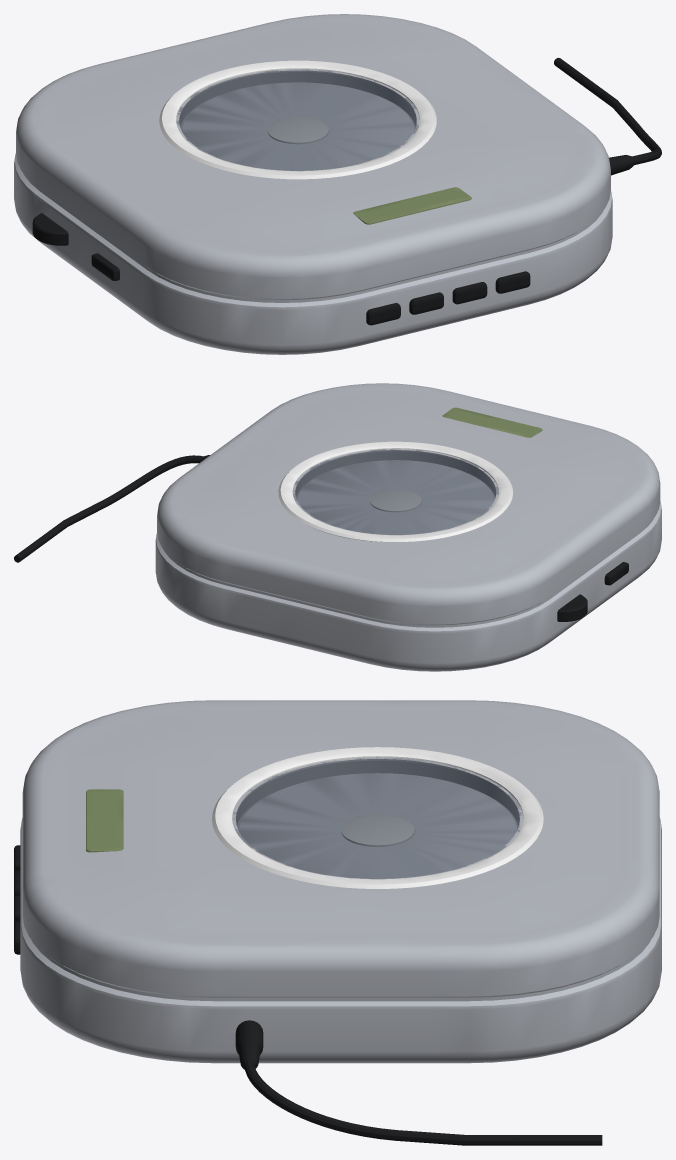
Rendered from SM_CDPlayer.glb.
The picture shows the model from 3 angles, top to bottom: view 1: azimuth 30°, elevation 25°; view 2: azimuth 150°, elevation 25°; view 3: azimuth 270°, elevation 25°; orthographic projection. The views are drawn at different scales.
Visible parts, largest first — view 1: SM_CDPlayer; view 2: SM_CDPlayer; view 3: SM_CDPlayer.
Boxes of the visible parts, <box> form: SM_CDPlayer: <box>14,14,661,354</box>; SM_CDPlayer: <box>14,383,661,671</box>; SM_CDPlayer: <box>14,700,661,1145</box>.
Bounding box in the file's own units: 0.1806 × 0.0297 × 0.1414.
